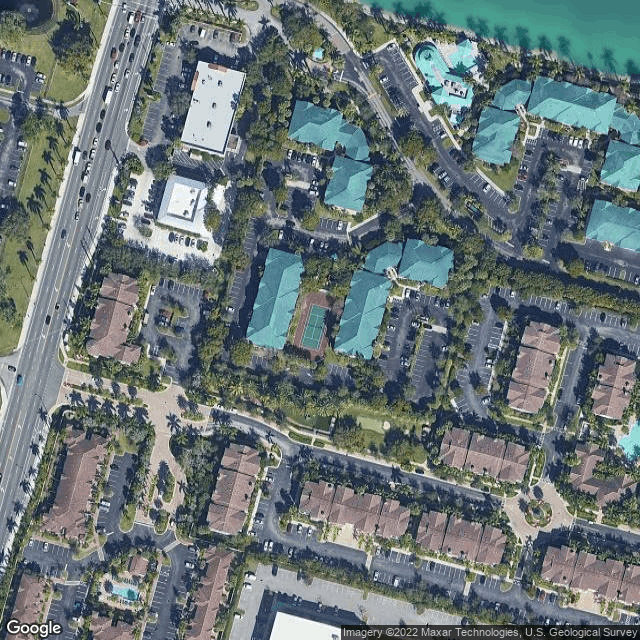Court: (299, 302, 331, 352)
